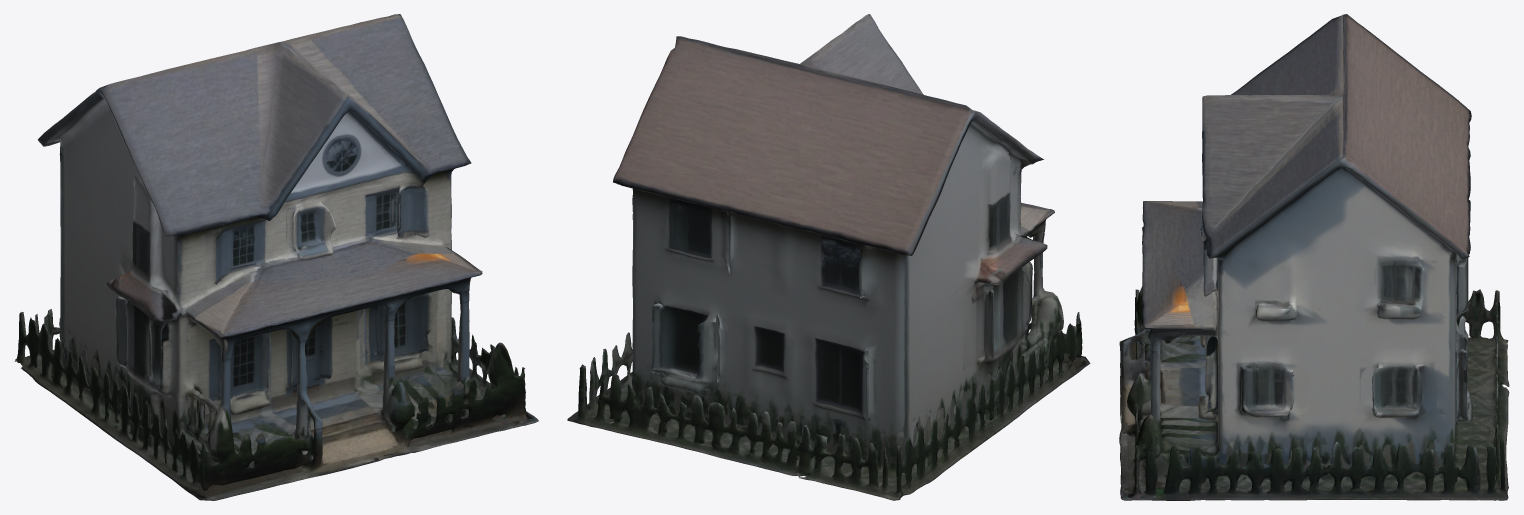
File: house.glb
The picture shows the model from 3 angles, left to right: view 1: azimuth 30°, elevation 25°; view 2: azimuth 150°, elevation 25°; view 3: azimuth 270°, elevation 25°; orthographic projection.
Size of the model in its own units: 2.01 by 1.9 by 2.01.
1 material, 1 textured.
